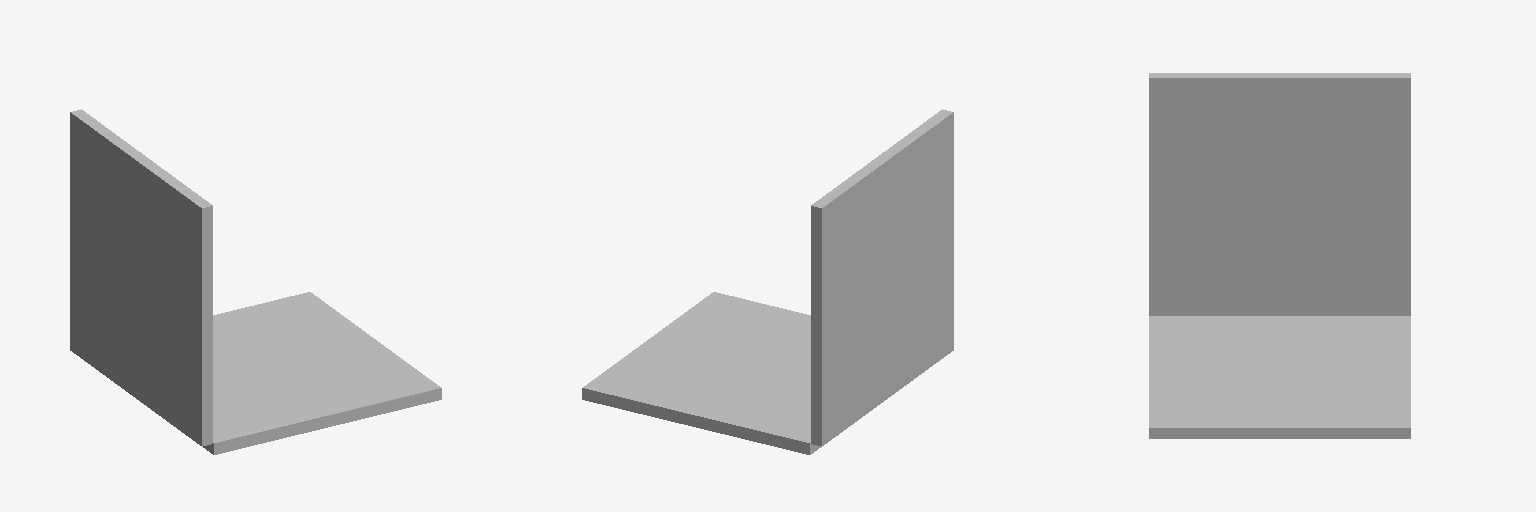
File: __HELP.obj
The picture shows the model from 3 angles: view 1: azimuth 30°, elevation 25°; view 2: azimuth 150°, elevation 25°; view 3: azimuth 270°, elevation 25°; orthographic projection.
Size of the model in its own units: 2.11 by 2.1 by 2.